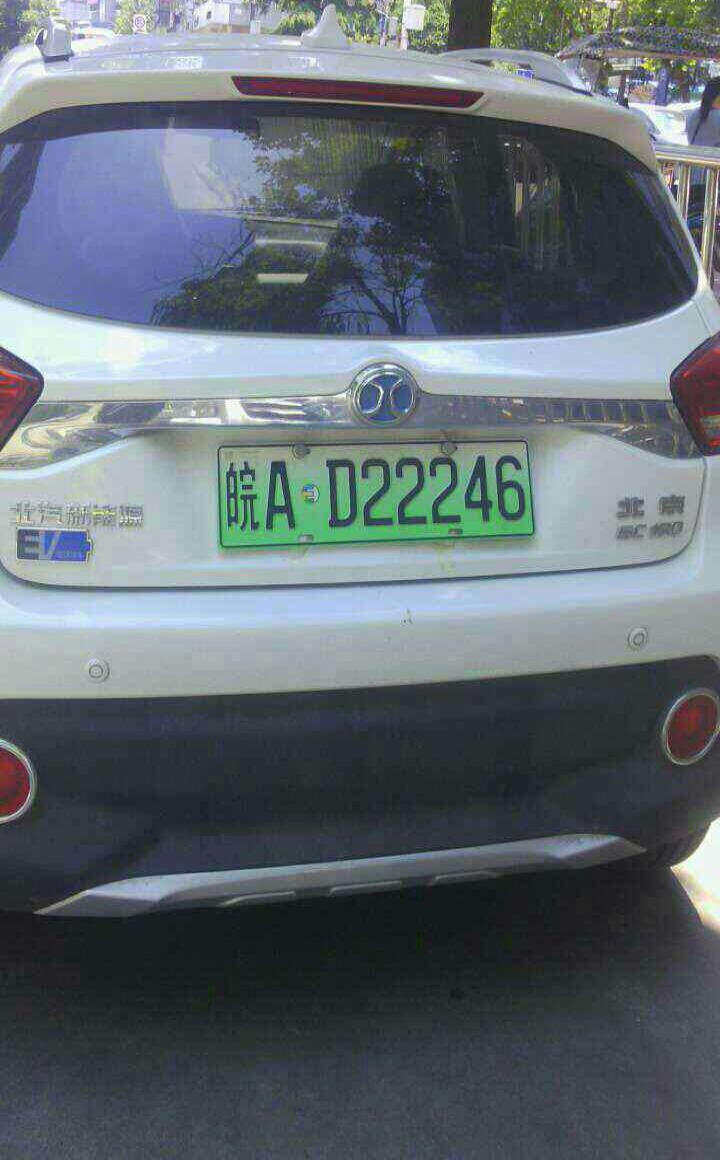car_id: (219, 441, 531, 552)
